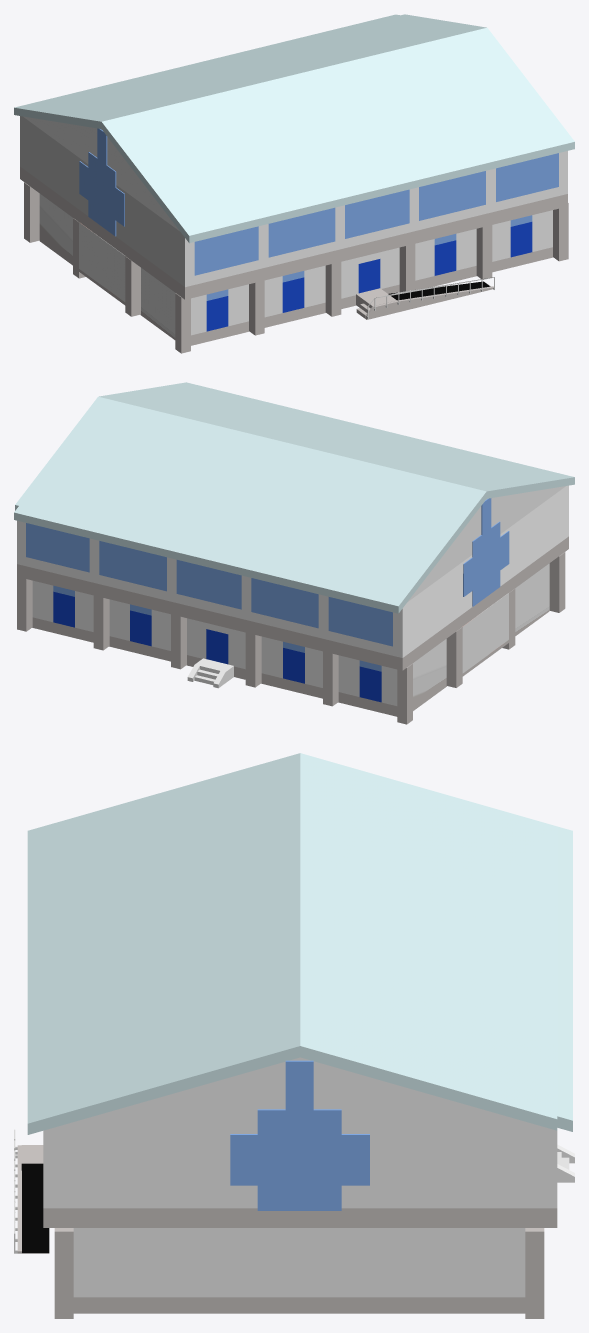
File: taikukan.glb
3 views of the same model, one above another, from view 1: azimuth 30°, elevation 25°; view 2: azimuth 150°, elevation 25°; view 3: azimuth 270°, elevation 25° (orthographic). The views are drawn at different scales.
Parts seen in each view (by area): view 1: 体育館屋根, 体育館本体, 体育館土台, 体育館・支柱, 体育館本体_2, 立方体.004, 体育館・出っ張り, 体育館・真ん中出入り口土台, 体育館・真ん中出入り口手すり土台; view 2: 体育館屋根, 体育館本体, 体育館土台, 体育館・支柱, 体育館本体_2, 立方体.004, 体育館・出っ張り, 体育館・真ん中出入り口・反対側・階段; view 3: 体育館屋根, 体育館本体, 体育館土台, 体育館本体_2, 立方体.005, 体育館・支柱, 体育館・真ん中出入り口土台.
Boxes of the visible parts, box(x1,y1,x2,y2) form: 体育館屋根: box(14, 14, 574, 243); 体育館本体: box(20, 116, 567, 299); 体育館土台: box(39, 194, 552, 345); 体育館・支柱: box(24, 182, 568, 353); 体育館本体_2: box(23, 116, 179, 231); 立方体.004: box(79, 128, 124, 236); 体育館・出っ張り: box(79, 222, 125, 305); 体育館・真ん中出入り口土台: box(356, 281, 490, 318); 体育館・真ん中出入り口手すり土台: box(365, 286, 493, 319); 体育館屋根: box(14, 382, 574, 613); 体育館本体: box(17, 485, 568, 670); 体育館土台: box(32, 563, 549, 716); 体育館・支柱: box(17, 552, 565, 724); 体育館本体_2: box(408, 486, 565, 601); 立方体.004: box(463, 498, 509, 606); 体育館・出っ張り: box(462, 593, 508, 676); 体育館・真ん中出入り口・反対側・階段: box(187, 658, 233, 688); 体育館屋根: box(27, 753, 572, 1134); 体育館本体: box(43, 1127, 557, 1227); 体育館土台: box(73, 1228, 525, 1313); 体育館本体_2: box(55, 1057, 545, 1127); 立方体.005: box(230, 1060, 369, 1210); 体育館・支柱: box(54, 1228, 544, 1318); 体育館・真ん中出入り口土台: box(21, 1145, 49, 1253).
Size of the model in its own units: 8.88 by 3.82 by 7.14.
Materials: 2 (2 with a texture image).
